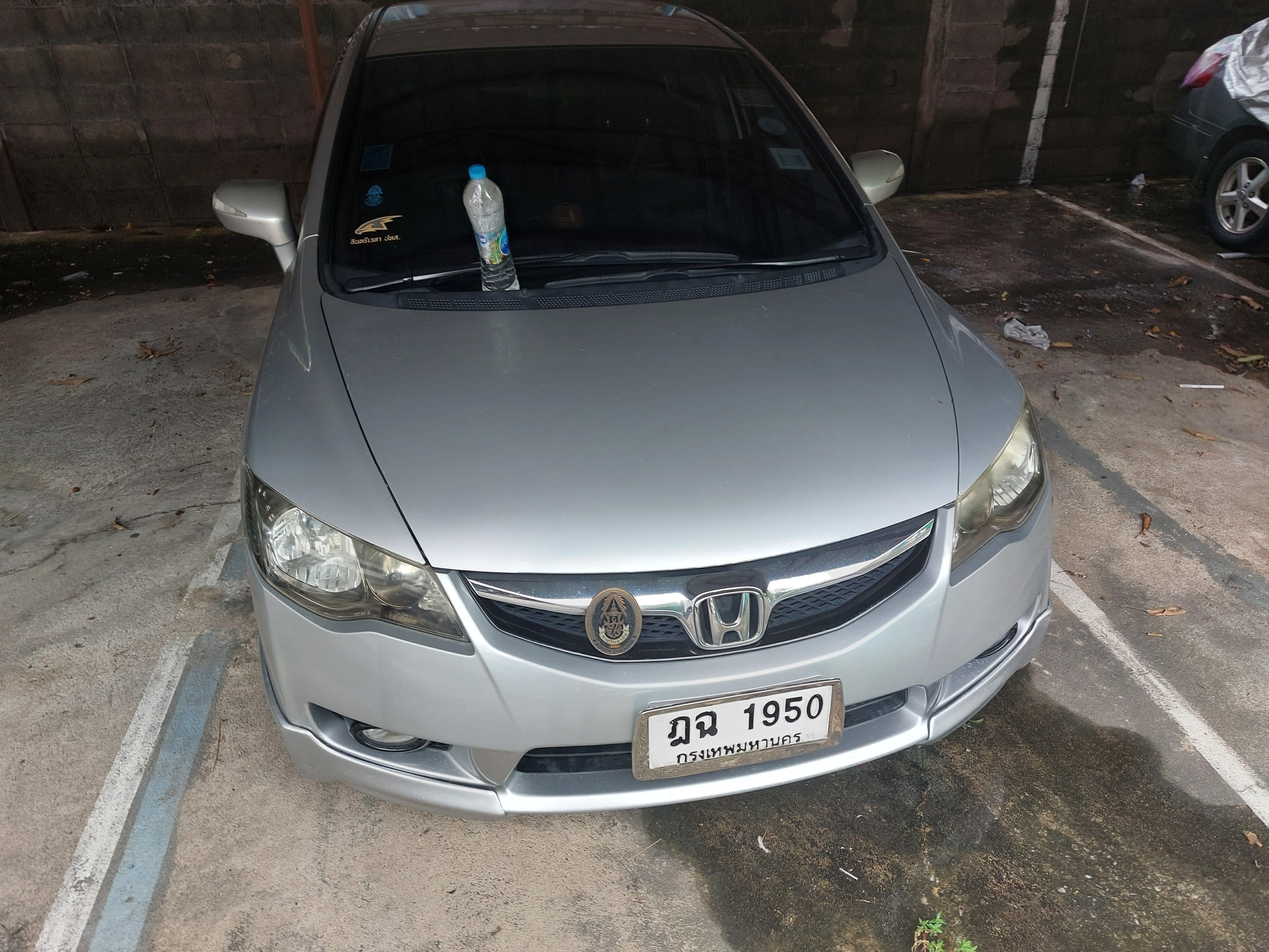license-plate: (627, 673, 851, 784)
